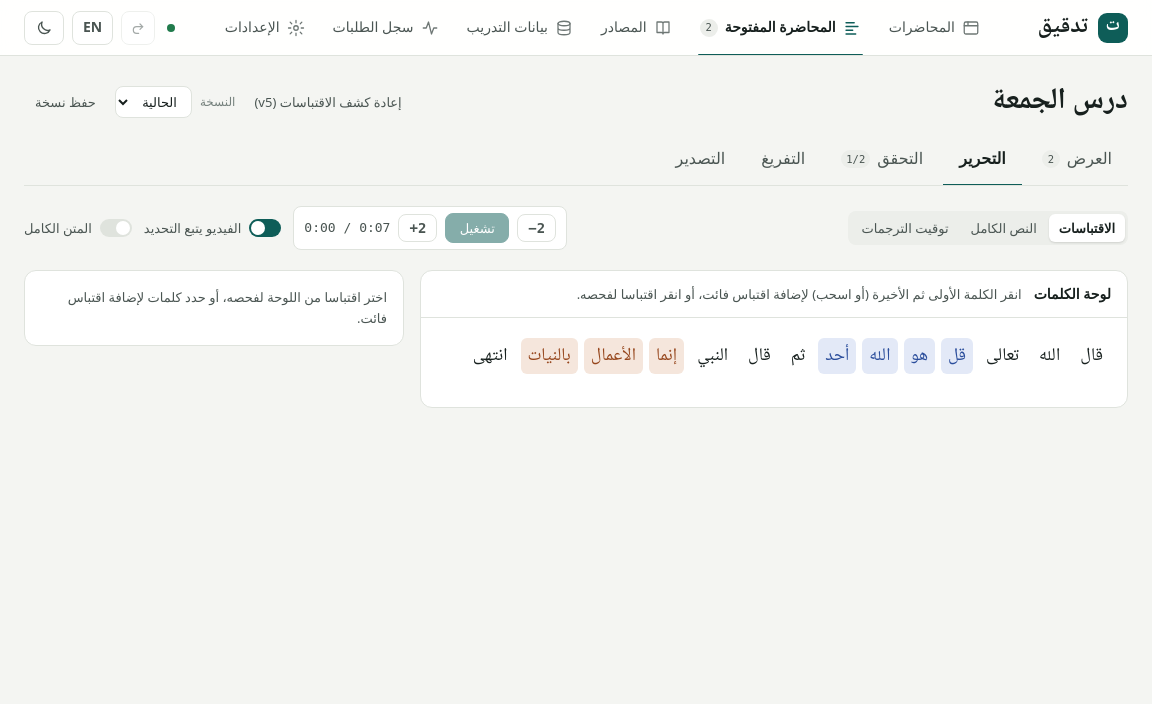
Scenario: save as a dhikr: the words go into the adhkar list and are marked with it at once (F-054)
Click the text "ثم" at (798, 356), box x1=791 y1=341 x2=805 y2=371
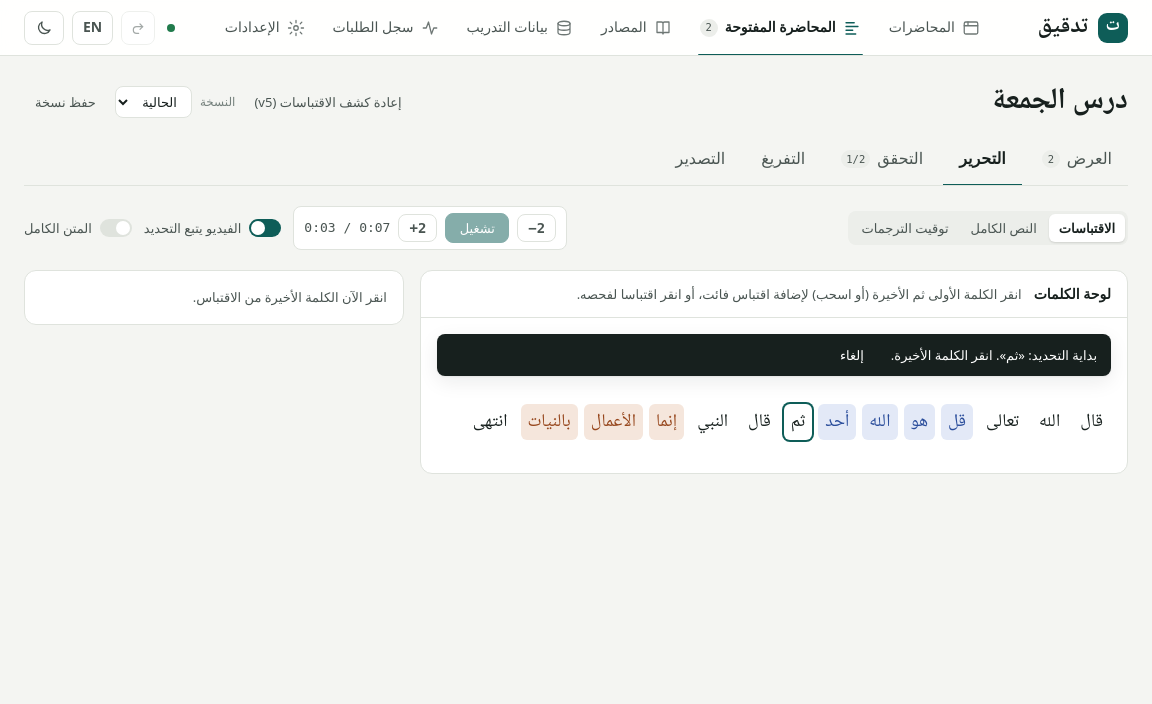
Click the 1st text "قال" at (759, 422), box x1=748 y1=407 x2=771 y2=437
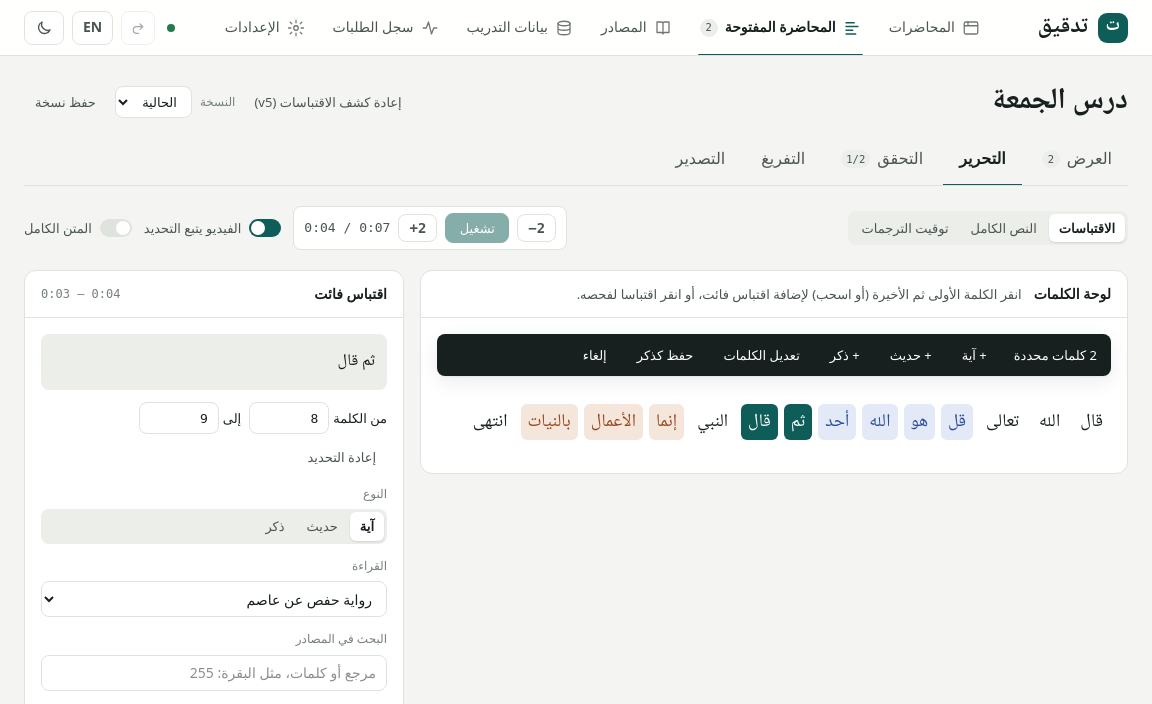
Click the button "حفظ كذكر" at (665, 355), box x1=626 y1=340 x2=704 y2=370
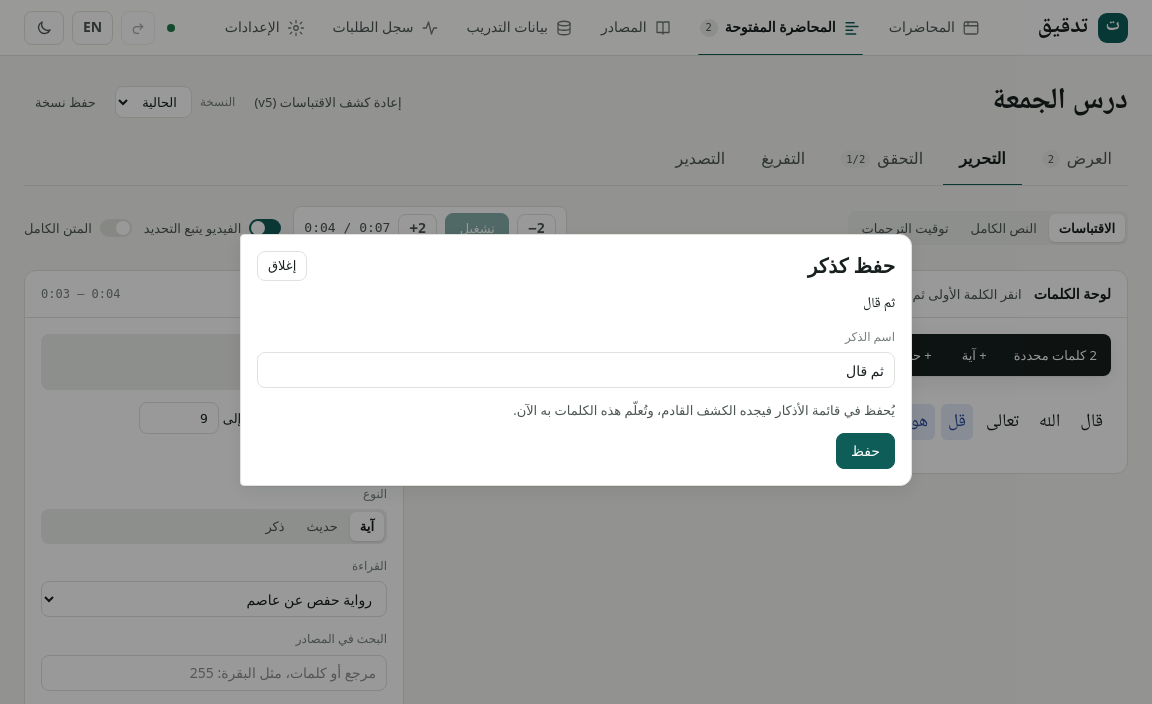
Click the button "حفظ" at (866, 451), box x1=836 y1=433 x2=895 y2=469
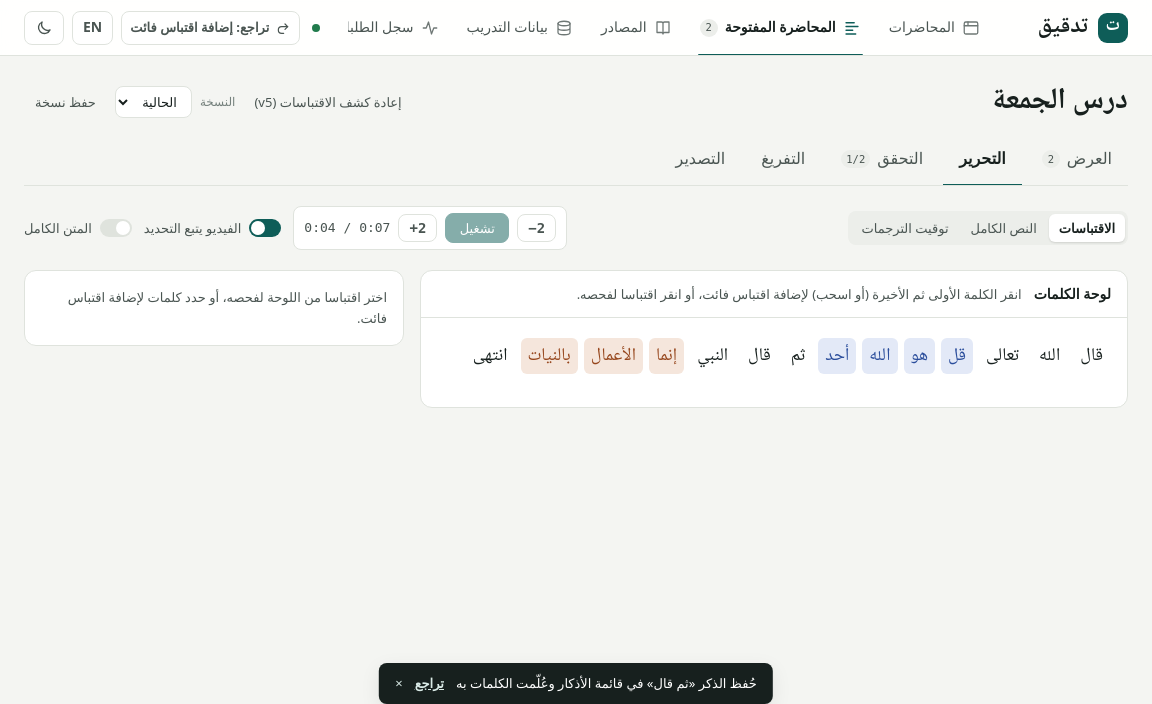
Expected: the text "حُفظ الذكر «ثم قال» في قائمة الأذكار وعُلّمت الكلمات به" is shown, x1=456 y1=673 x2=757 y2=694
